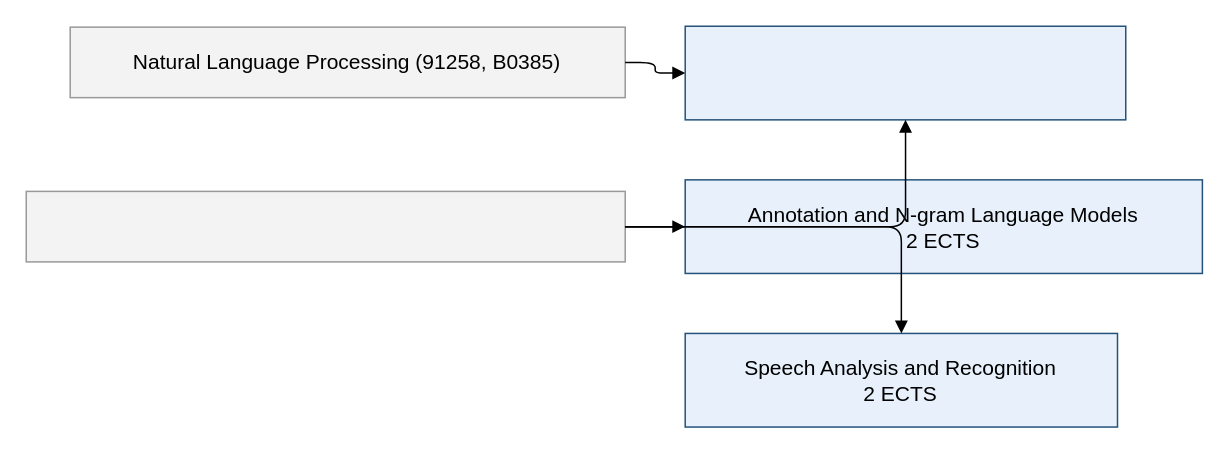
The diagram is 1230 pixels wide and 455 high, and some of its shapes have lost their labels. Here are the shapes that lost their labels. From the top down, the centre of each, then its label:
[905,72]: Word and Contextual Embeddings 2 ECTS
[325,226]: Natural Language Processing (91258-A, 91258-B)
